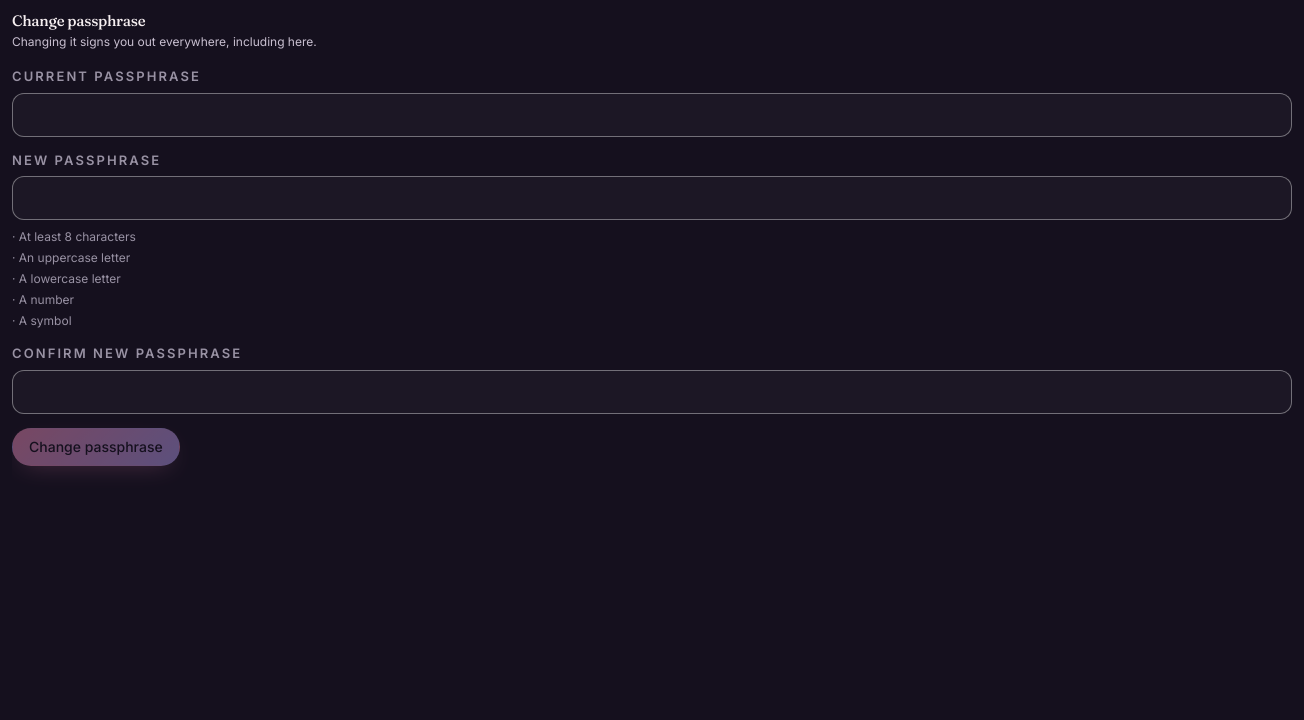
it: validation is the SERVER’s job › maps a 429 to rate-limit copy rather than a generic failure
Type "old-one" into the password field labelled "Current passphrase" at point(652, 115), box [12,93,1292,137]
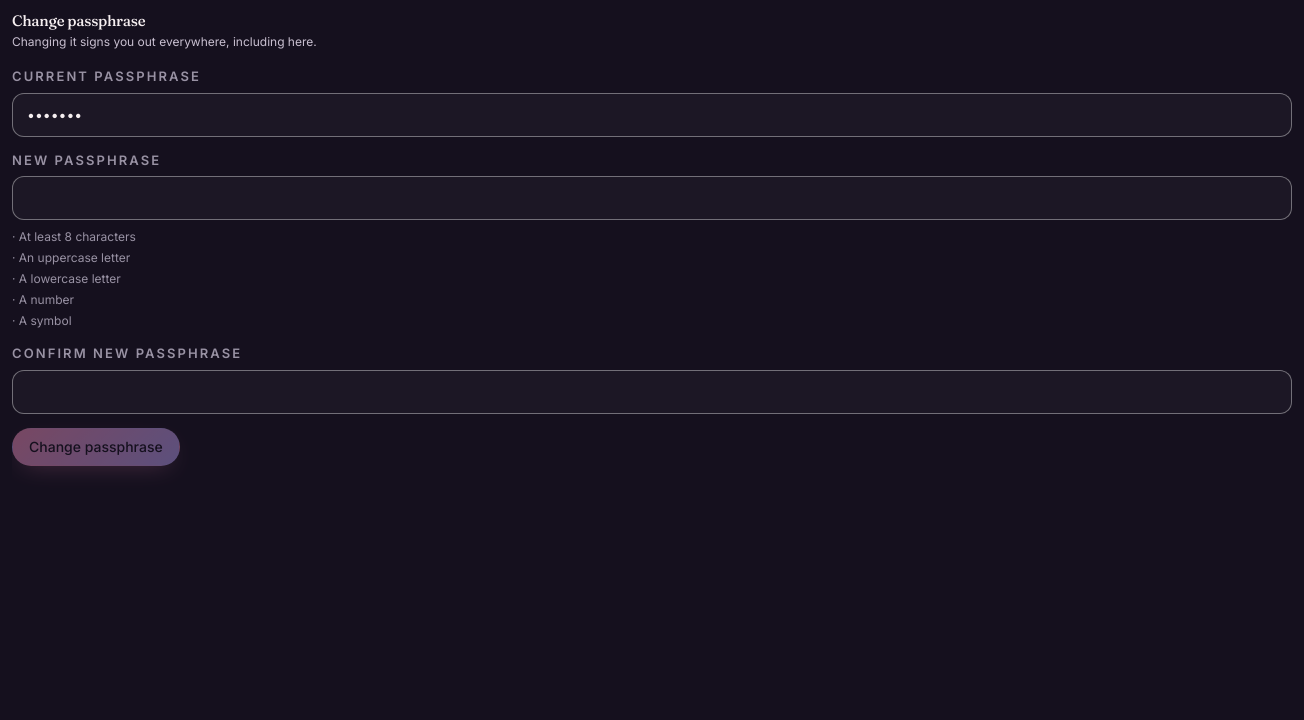
Type "Brand-New-1!" into the password field labelled "New passphrase" at point(652, 198), box [12,176,1292,220]
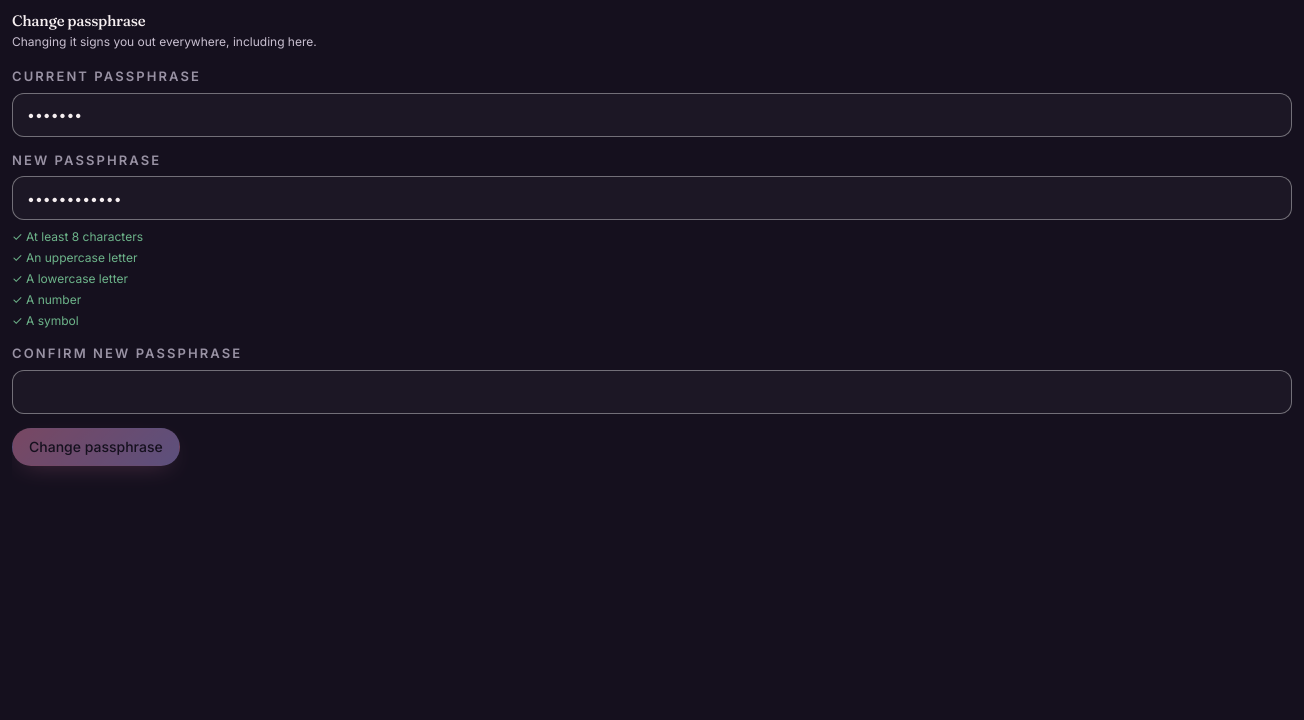
Type "Brand-New-1!" into the password field labelled "Confirm new passphrase" at point(652, 392), box [12,370,1292,414]
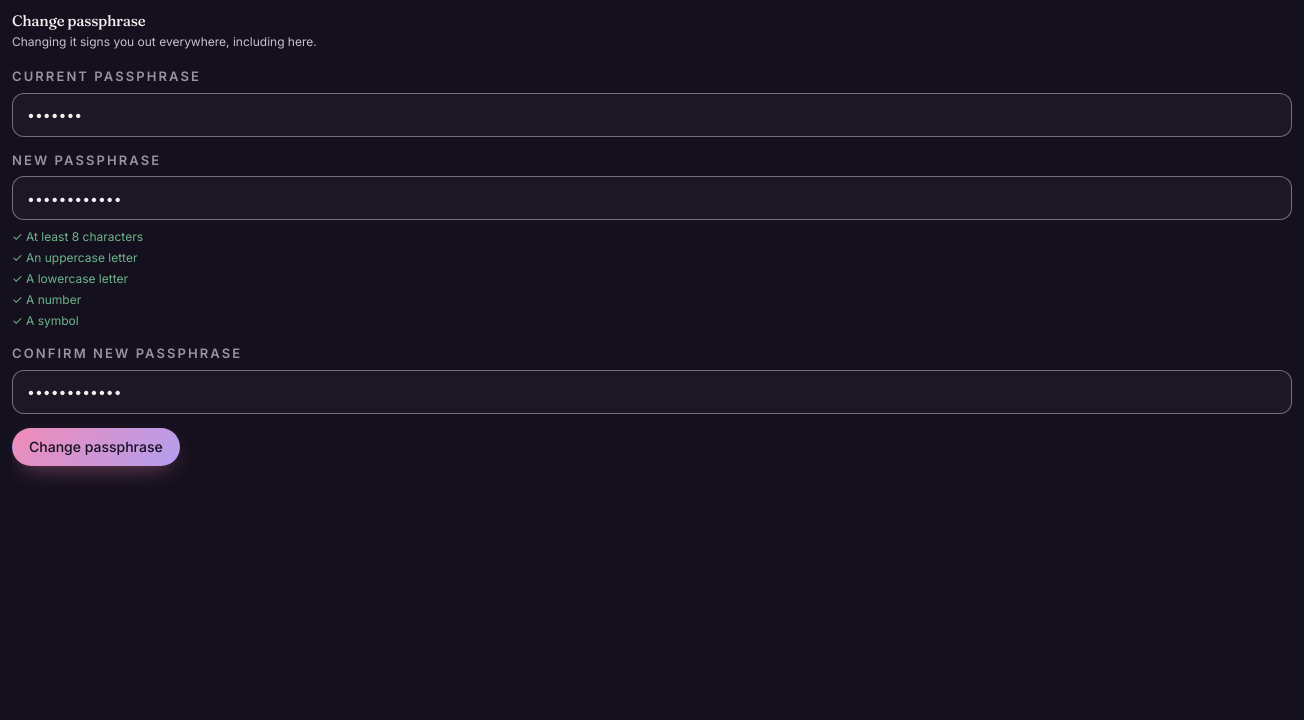
Click the button "Change passphrase" at point(96, 447), box [12,428,180,466]
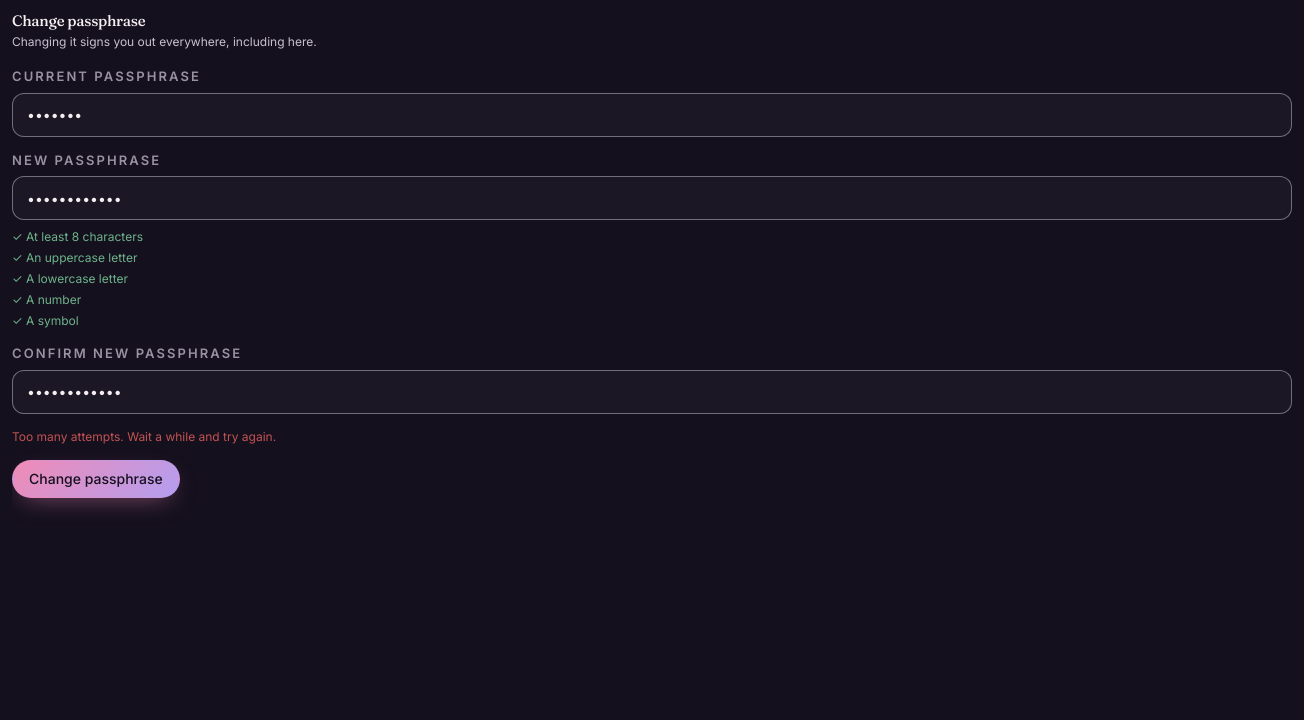
Check: the list item "Too many attempts. Wait a while and try again." is shown, box [12,429,276,444]
